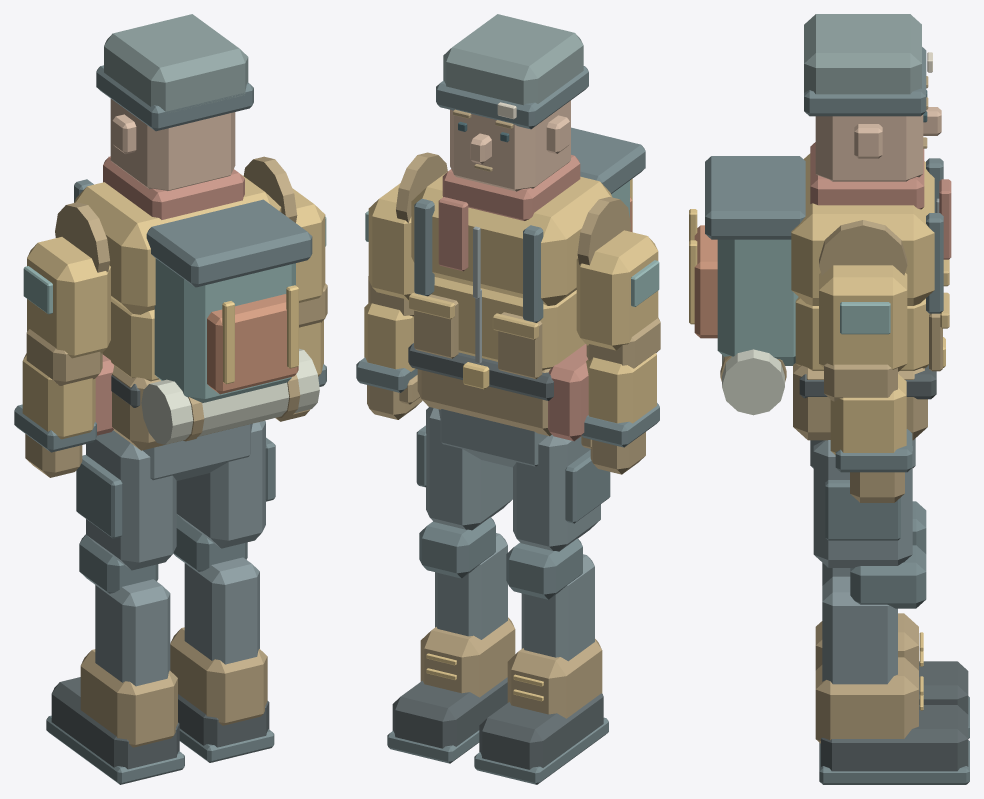
Rendered from keeper_static.glb.
3 renders of one model, left to right at view 1: azimuth 30°, elevation 25°; view 2: azimuth 150°, elevation 25°; view 3: azimuth 270°, elevation 25°, orthographic. The views are drawn at different scales.
Parts seen in each view (by area): view 1: Keeper; view 2: Keeper; view 3: Keeper.
Boxes of the visible parts, box(x1,y1,x2,y2) form: Keeper: box(14, 14, 327, 784); Keeper: box(356, 14, 660, 784); Keeper: box(689, 14, 969, 784).
Size of the model in its own units: 0.77 by 1.87 by 0.6665.
